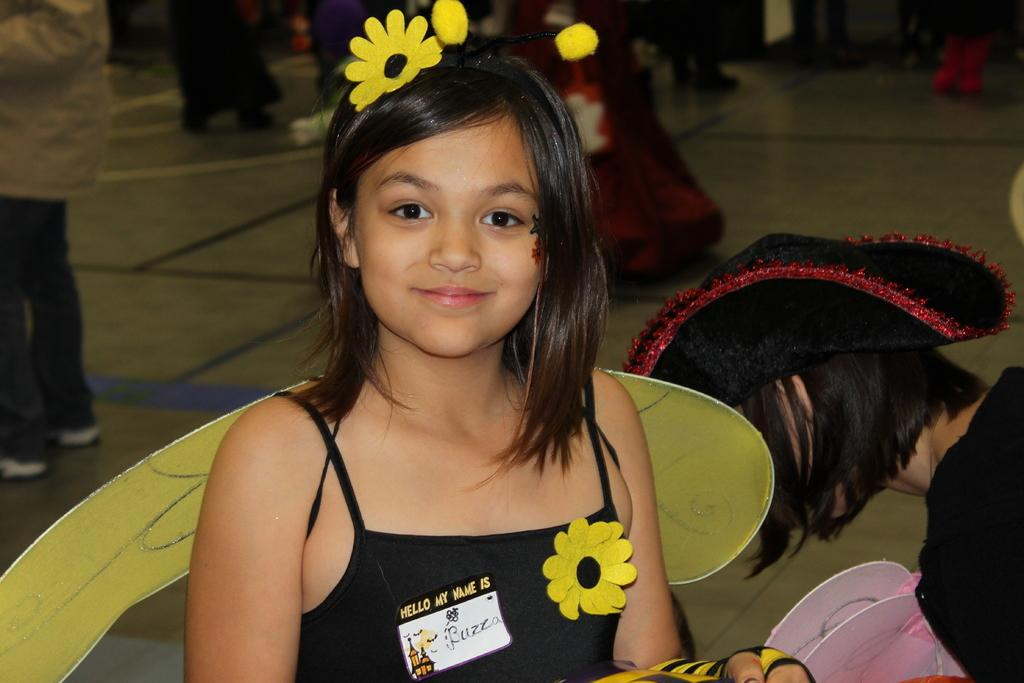Hat: (622, 225, 1017, 410)
